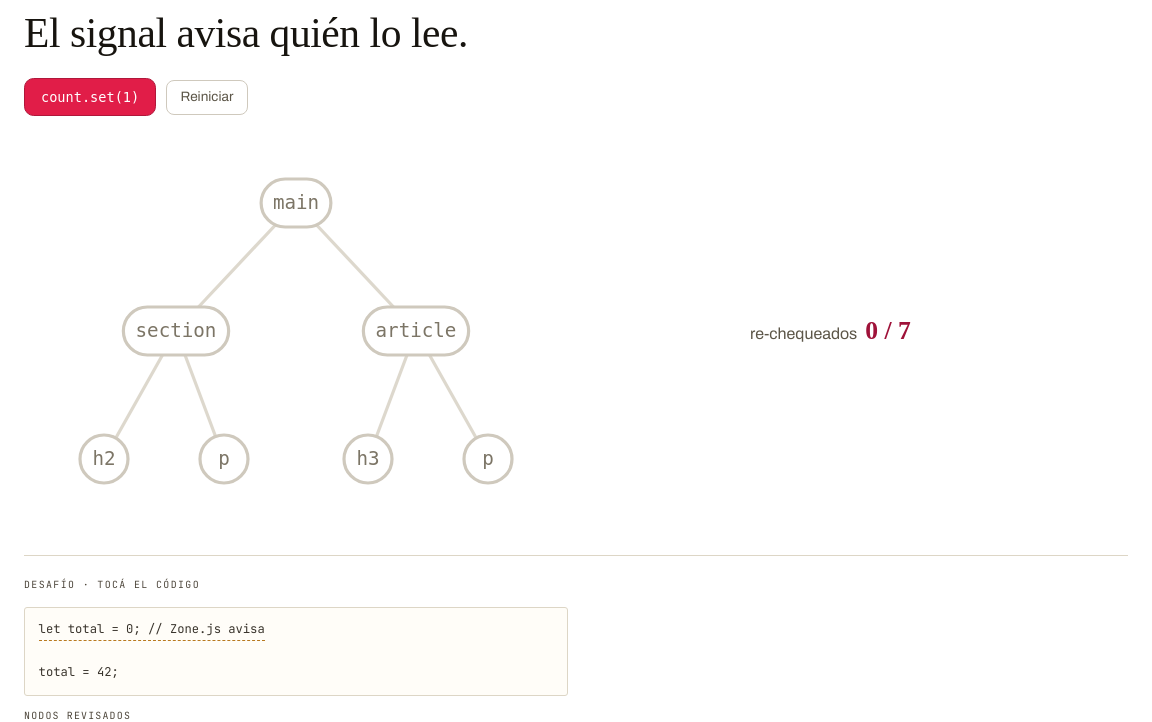
Scenario: SignalsChangeDetectionComponent › cambiar el signal re-chequea solo los dependientes y poda el resto
Click the button "count.set(1)".
click(90, 97)  # box [24,78,156,116]
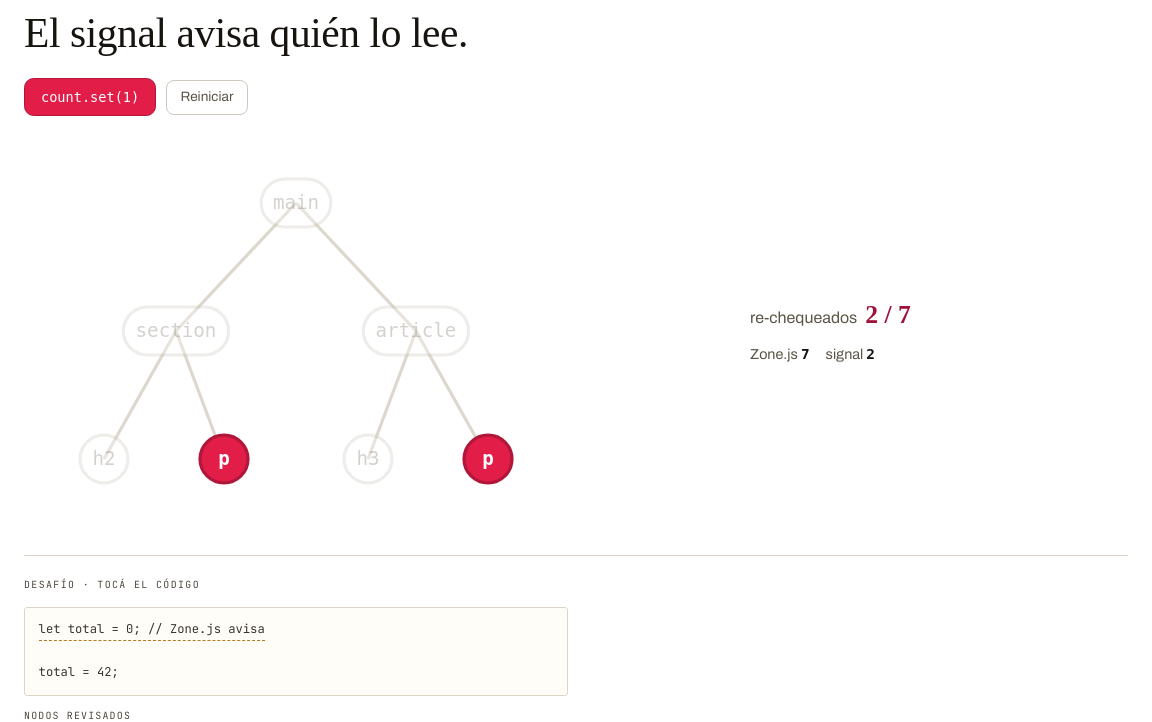
Now the text "2 / 7" is shown, box [865,296,911,334]
